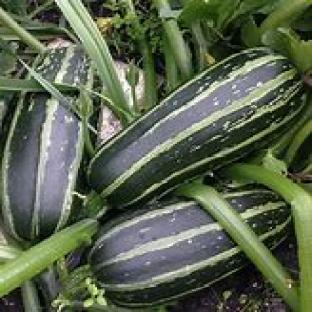Zucchini: (90, 49, 302, 206), (90, 202, 247, 306), (2, 92, 83, 240)
